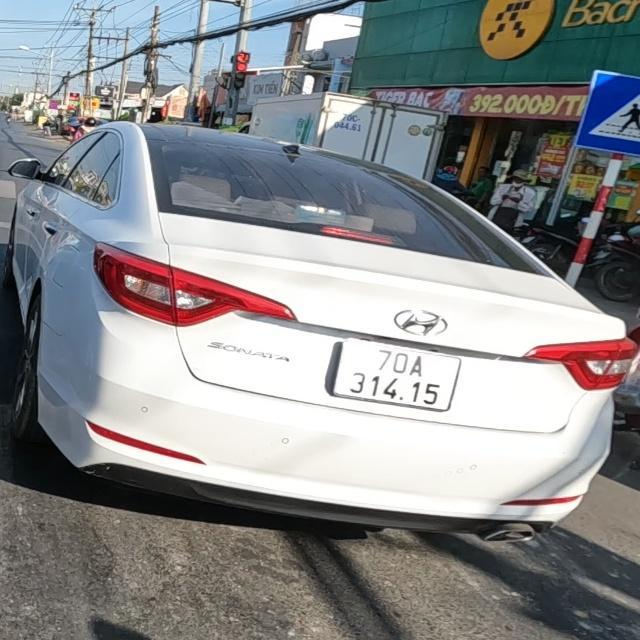car: (4, 116, 636, 564)
plate: (324, 326, 470, 419)
